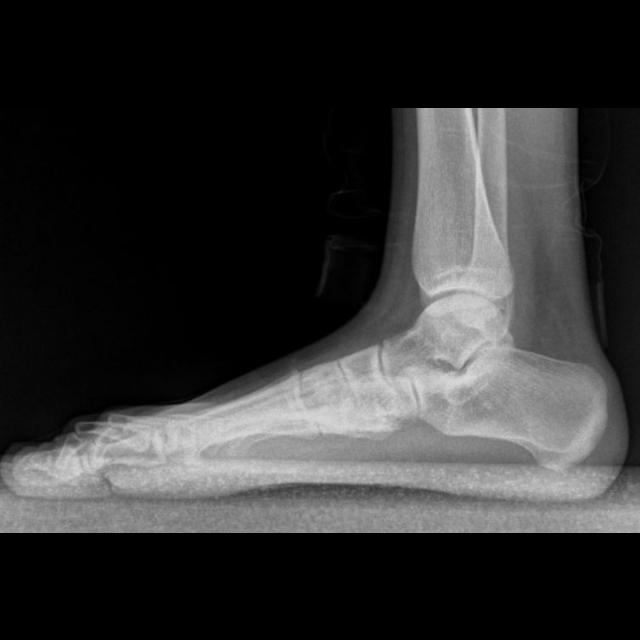a: (411, 346, 606, 468)
b: (338, 342, 413, 422)
c: (162, 370, 326, 467)
